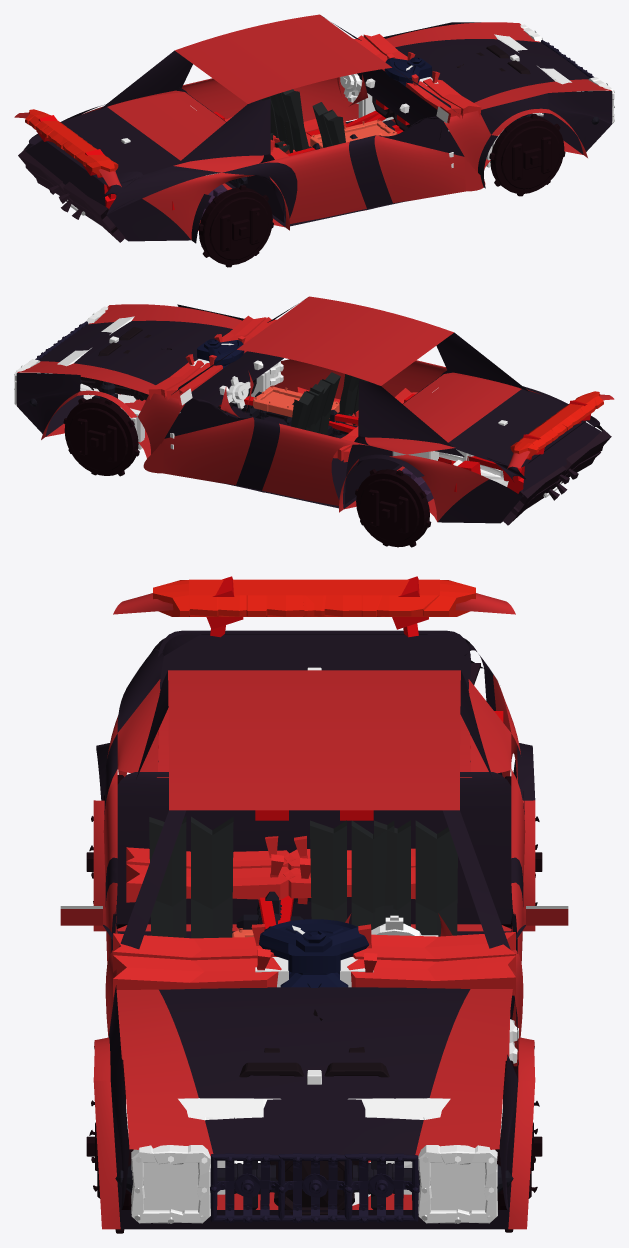
The model's file is 小汽车.gltf.
3 views of the same model, one above another, from view 1: azimuth 30°, elevation 25°; view 2: azimuth 150°, elevation 25°; view 3: azimuth 270°, elevation 25° (orthographic). The views are drawn at different scales.
Visible parts, largest first — view 1: BuildSurface_6d4f0ec9-0d6d-4092-9e18-35af76745d32, BuildSurface_423236c8-8858-40c2-a5c1-b64d11392326, BuildSurface_dc2c63be-2af1-42d2-8220-3dc215b955da, Wheel_991b2e3e-45a1-4065-a149-08e527422013, Wheel_18bf8b2e-78c9-4f00-aeb2-cae896a4166b, BuildSurface_ae2623d8-d767-4d7e-a3b2-25c5e06bea3e, BuildSurface_13b56fe9-2b9a-4455-9883-075adf61a804, BuildSurface_e961aebe-21f3-4c59-802d-6b50cdbb97ba, BuildSurface_49308fb0-999d-4b51-be5e-fa0e9d7870e2, BuildSurface_d6137584-0e7a-464f-828d-e231478a0b09, BuildSurface_54b838bd-7b8c-4cca-9327-1ff3a0c1f80e, BuildSurface_de78fb0e-ec77-41a1-984e-bf68eb30b0e0 (+35 smaller); view 2: BuildSurface_6d4f0ec9-0d6d-4092-9e18-35af76745d32, BuildSurface_423236c8-8858-40c2-a5c1-b64d11392326, BuildSurface_50eae71e-df11-40dc-9b31-faca2cb12a5d, Wheel_0d8136af-3128-4814-b235-4184a5c40d39, Wheel_1dadcde9-f5f0-4ee4-b9a6-eb862c882868, BuildSurface_e961aebe-21f3-4c59-802d-6b50cdbb97ba, BuildSurface_67f7496b-d03c-48c2-8984-9bd94f828dc7, BuildSurface_13b56fe9-2b9a-4455-9883-075adf61a804, BuildSurface_19e7e1c0-eacb-45ec-a410-d3b0f29e72ef, BuildSurface_ce7782c9-ed9b-405f-8d77-a65a1136ade2, BuildSurface_c38742d6-0fe6-4fef-8417-86035428dbda, BuildSurface_2f2bcf65-fcc4-4540-b7e0-0f0a1fc47a9c (+36 smaller); view 3: BuildSurface_6d4f0ec9-0d6d-4092-9e18-35af76745d32, BuildSurface_423236c8-8858-40c2-a5c1-b64d11392326, BuildSurface_0208d9ab-5707-4367-88d3-96545b629fbb, BuildSurface_e961aebe-21f3-4c59-802d-6b50cdbb97ba, BuildSurface_de78fb0e-ec77-41a1-984e-bf68eb30b0e0, BuildSurface_2f2bcf65-fcc4-4540-b7e0-0f0a1fc47a9c, WoodenPanel_7c9c1ee5-ab69-41ca-a512-8fbc3ff1cf92, WoodenPanel_08e12acb-dd59-4998-b368-ce59002bf16f, WoodenPanel_275c3ca5-47dd-412f-b5b1-f5dff8c2ee10, WoodenPanel_3dcb692d-7861-419e-8599-3d1ee268e3c1, WoodenPanel_33e0f961-5edd-41d9-b720-7dc0870dbee4, ArmorPlateSmall_a79c46cd-58d5-4251-8659-d0353665a627 (+32 smaller).
Boxes of the visible parts, x1,y1,x2,y2 form: BuildSurface_6d4f0ec9-0d6d-4092-9e18-35af76745d32: (175,14,391,103); BuildSurface_423236c8-8858-40c2-a5c1-b64d11392326: (395,39,589,102); BuildSurface_dc2c63be-2af1-42d2-8220-3dc215b955da: (260,141,366,223); Wheel_991b2e3e-45a1-4065-a149-08e527422013: (489,114,565,196); Wheel_18bf8b2e-78c9-4f00-aeb2-cae896a4166b: (198,185,273,267); BuildSurface_ae2623d8-d767-4d7e-a3b2-25c5e06bea3e: (374,135,465,203); BuildSurface_13b56fe9-2b9a-4455-9883-075adf61a804: (107,92,225,160); BuildSurface_e961aebe-21f3-4c59-802d-6b50cdbb97ba: (37,107,180,185); BuildSurface_49308fb0-999d-4b51-be5e-fa0e9d7870e2: (176,99,270,164); BuildSurface_d6137584-0e7a-464f-828d-e231478a0b09: (142,173,254,239); BuildSurface_54b838bd-7b8c-4cca-9327-1ff3a0c1f80e: (107,198,190,241); BuildSurface_de78fb0e-ec77-41a1-984e-bf68eb30b0e0: (386,22,539,47); BuildSurface_6d4f0ec9-0d6d-4092-9e18-35af76745d32: (237,296,453,385); BuildSurface_423236c8-8858-40c2-a5c1-b64d11392326: (39,320,232,384); BuildSurface_50eae71e-df11-40dc-9b31-faca2cb12a5d: (262,423,368,505); Wheel_0d8136af-3128-4814-b235-4184a5c40d39: (355,469,431,547); Wheel_1dadcde9-f5f0-4ee4-b9a6-eb862c882868: (63,398,139,476); BuildSurface_e961aebe-21f3-4c59-802d-6b50cdbb97ba: (448,389,591,467); BuildSurface_67f7496b-d03c-48c2-8984-9bd94f828dc7: (163,417,254,485); BuildSurface_13b56fe9-2b9a-4455-9883-075adf61a804: (403,374,521,442); BuildSurface_19e7e1c0-eacb-45ec-a410-d3b0f29e72ef: (358,380,464,456); BuildSurface_ce7782c9-ed9b-405f-8d77-a65a1136ade2: (389,455,489,521); BuildSurface_c38742d6-0fe6-4fef-8417-86035428dbda: (438,479,521,523); BuildSurface_2f2bcf65-fcc4-4540-b7e0-0f0a1fc47a9c: (89,304,241,328); BuildSurface_6d4f0ec9-0d6d-4092-9e18-35af76745d32: (168,670,460,810); BuildSurface_423236c8-8858-40c2-a5c1-b64d11392326: (159,987,470,1154); BuildSurface_0208d9ab-5707-4367-88d3-96545b629fbb: (116,772,512,924); BuildSurface_e961aebe-21f3-4c59-802d-6b50cdbb97ba: (158,630,471,689); BuildSurface_de78fb0e-ec77-41a1-984e-bf68eb30b0e0: (415,989,512,1155); BuildSurface_2f2bcf65-fcc4-4540-b7e0-0f0a1fc47a9c: (116,989,213,1156); WoodenPanel_7c9c1ee5-ab69-41ca-a512-8fbc3ff1cf92: (347,924,515,995); WoodenPanel_08e12acb-dd59-4998-b368-ce59002bf16f: (113,924,281,997); WoodenPanel_275c3ca5-47dd-412f-b5b1-f5dff8c2ee10: (149,816,233,938); WoodenPanel_3dcb692d-7861-419e-8599-3d1ee268e3c1: (374,820,457,936); WoodenPanel_33e0f961-5edd-41d9-b720-7dc0870dbee4: (310,820,394,929); ArmorPlateSmall_a79c46cd-58d5-4251-8659-d0353665a627: (418,1145,497,1223).
Size of the model in its own units: 14.09 by 3.95 by 6.
